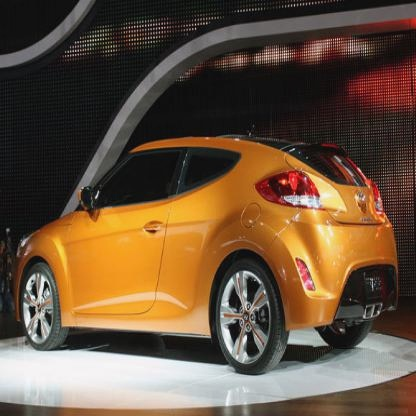Vehicle: (6, 111, 409, 387)
